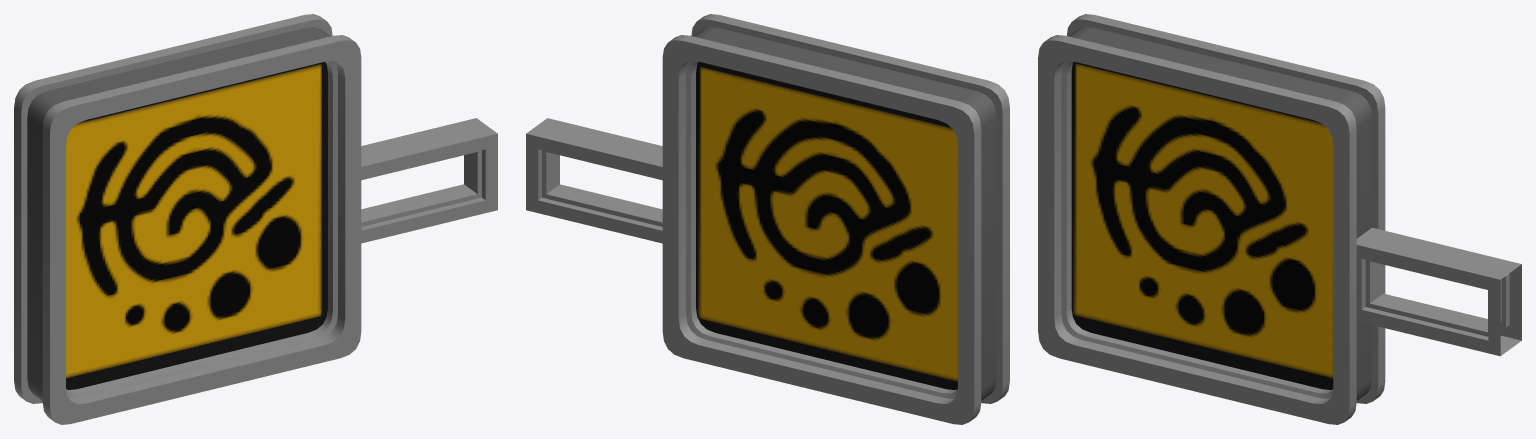
3 renders of one model, left to right at view 1: azimuth 30°, elevation 25°; view 2: azimuth 150°, elevation 25°; view 3: azimuth 330°, elevation 25°, orthographic.
Parts seen in each view (by area): view 1: MS_1M_2; view 2: MS_1M_2; view 3: MS_1M_2.
Boxes of the visible parts, box(x1,y1,x2,y2) form: MS_1M_2: box(14, 14, 497, 424); MS_1M_2: box(526, 14, 1009, 424); MS_1M_2: box(1038, 14, 1521, 424).
Size of the model in its own units: 146 by 97.51 by 19.93.
